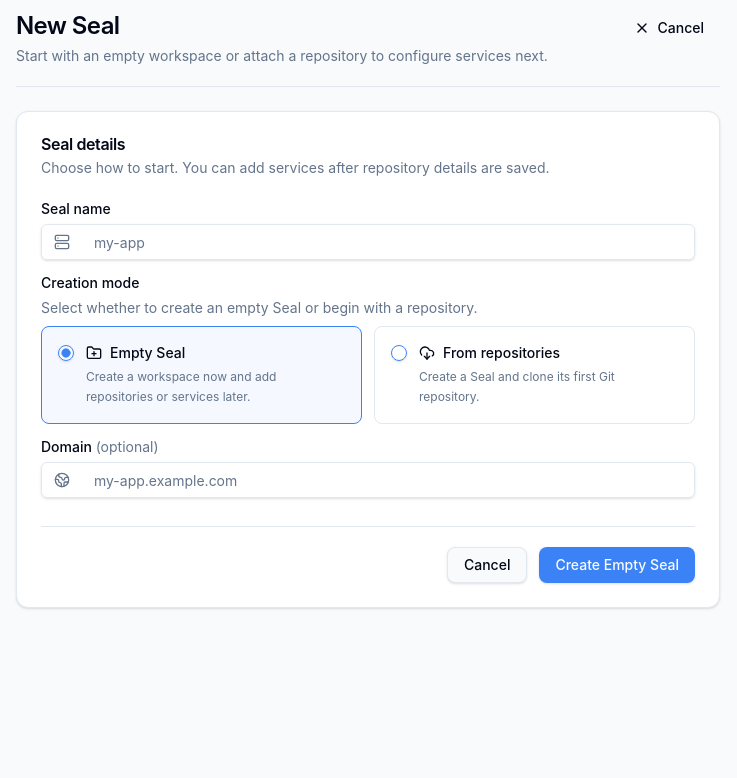
Test: NewSealPage › reveals repository fields and validates them before submission
The width and height of the screenshot is (737, 778).
Click the radio button with id "repository".
click(399, 353)  # box [391, 345, 407, 361]
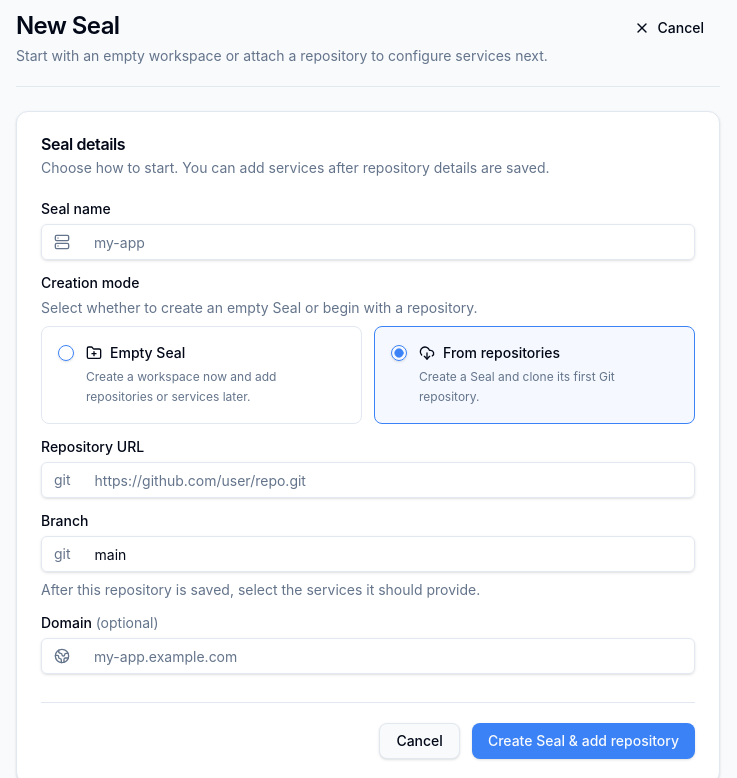
Expected: the field with id "branch" holds "main", [83, 537, 694, 571]
Submit the form
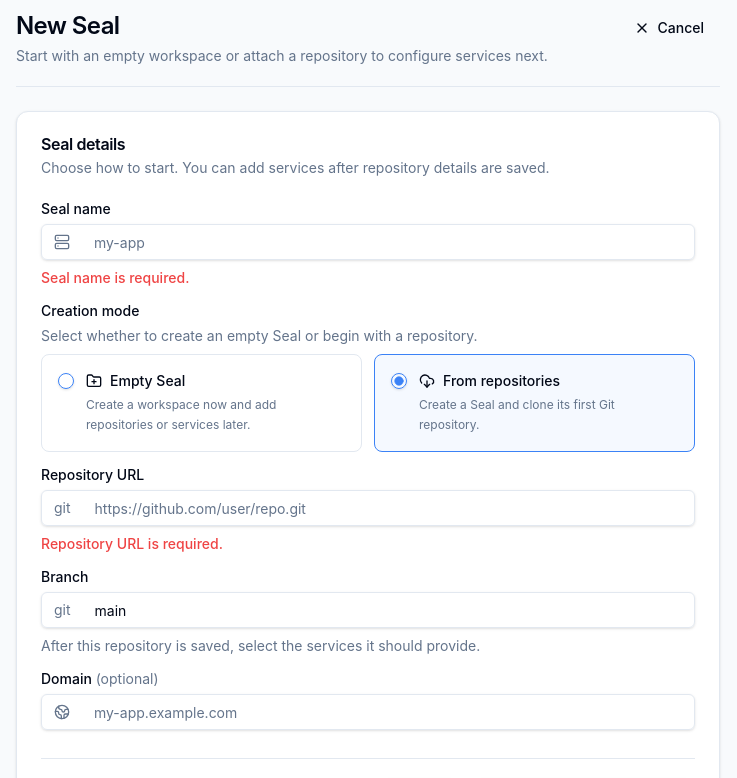
Expected: the text "Seal name is required." is shown, [41, 269, 189, 286]
Expected: the text "Repository URL is required." is shown, [41, 535, 223, 552]
